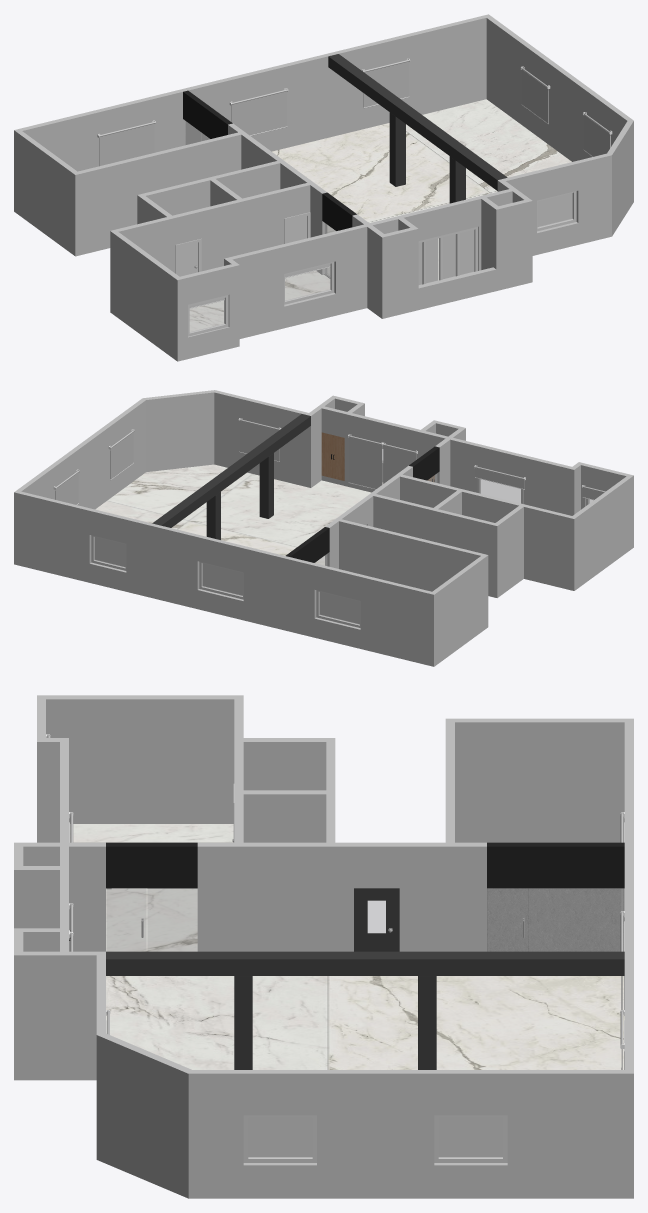
The model's file is office floor plan structural.glb.
3 renders of one model, top to bottom at view 1: azimuth 30°, elevation 25°; view 2: azimuth 150°, elevation 25°; view 3: azimuth 270°, elevation 25°, orthographic. The views are drawn at different scales.
Parts seen in each view (by area): view 1: Plane.020, Plane.022, Plane.005, Plane.016, Plane.026, Plane.015, Plane.002, Plane.008, Plane.017, Plane.035, Plane.036, Cube.279 (+26 smaller); view 2: Plane.020, Plane.022, Plane.026, Plane.015, Plane.016, Plane.005, Plane.008, Plane.001, Plane.017, Plane.007, Plane.029, Cube.279 (+25 smaller); view 3: Plane.020, Plane.022, Plane.034, Plane.008, Plane.017, Plane.026, Cube.279, Plane.009, Plane.018, Plane.036, Plane.033, Plane.028 (+26 smaller).
Boxes of the visible parts, box(x1,y1,x2,y2) form: Plane.020: box(185, 14, 627, 161); Plane.022: box(272, 99, 571, 280); Plane.005: box(180, 224, 367, 360); Plane.016: box(72, 132, 241, 256); Plane.026: box(497, 116, 633, 255); Plane.015: box(14, 88, 188, 213); Plane.002: box(173, 183, 310, 271); Plane.008: box(110, 229, 182, 361); Plane.017: box(17, 131, 76, 253); Plane.035: box(367, 218, 418, 318); Plane.036: box(481, 190, 532, 290); Cube.279: box(328, 54, 507, 190); Plane.020: box(14, 402, 284, 629); Plane.022: box(95, 464, 383, 565); Plane.026: box(137, 390, 313, 487); Plane.015: box(282, 556, 436, 666); Plane.016: box(339, 519, 488, 628); Plane.005: box(450, 438, 628, 515); Plane.008: box(569, 474, 633, 590); Plane.001: box(373, 494, 494, 596); Plane.017: box(432, 556, 485, 664); Plane.007: box(524, 505, 571, 589); Plane.029: box(321, 406, 447, 492); Cube.279: box(152, 414, 310, 527); Plane.020: box(207, 846, 633, 1198); Plane.022: box(106, 976, 624, 1069); Plane.034: box(197, 842, 486, 951); Plane.008: box(37, 695, 243, 823); Plane.017: box(455, 718, 624, 842); Plane.026: box(96, 951, 206, 1198); Cube.279: box(106, 951, 624, 975); Plane.009: box(70, 824, 233, 951); Plane.018: box(487, 888, 624, 951); Plane.036: box(14, 928, 59, 1080); Plane.033: box(487, 842, 624, 888); Plane.028: box(60, 951, 96, 1080).
Bounding box in the file's own units: 19.5 × 3 × 13.5.
14 materials, 3 textured.
